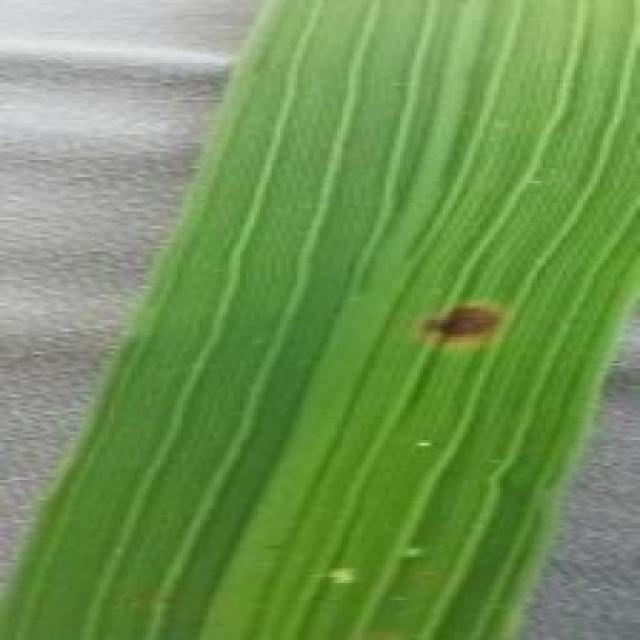Rice___Brown_Spot: (2, 1, 637, 637)
